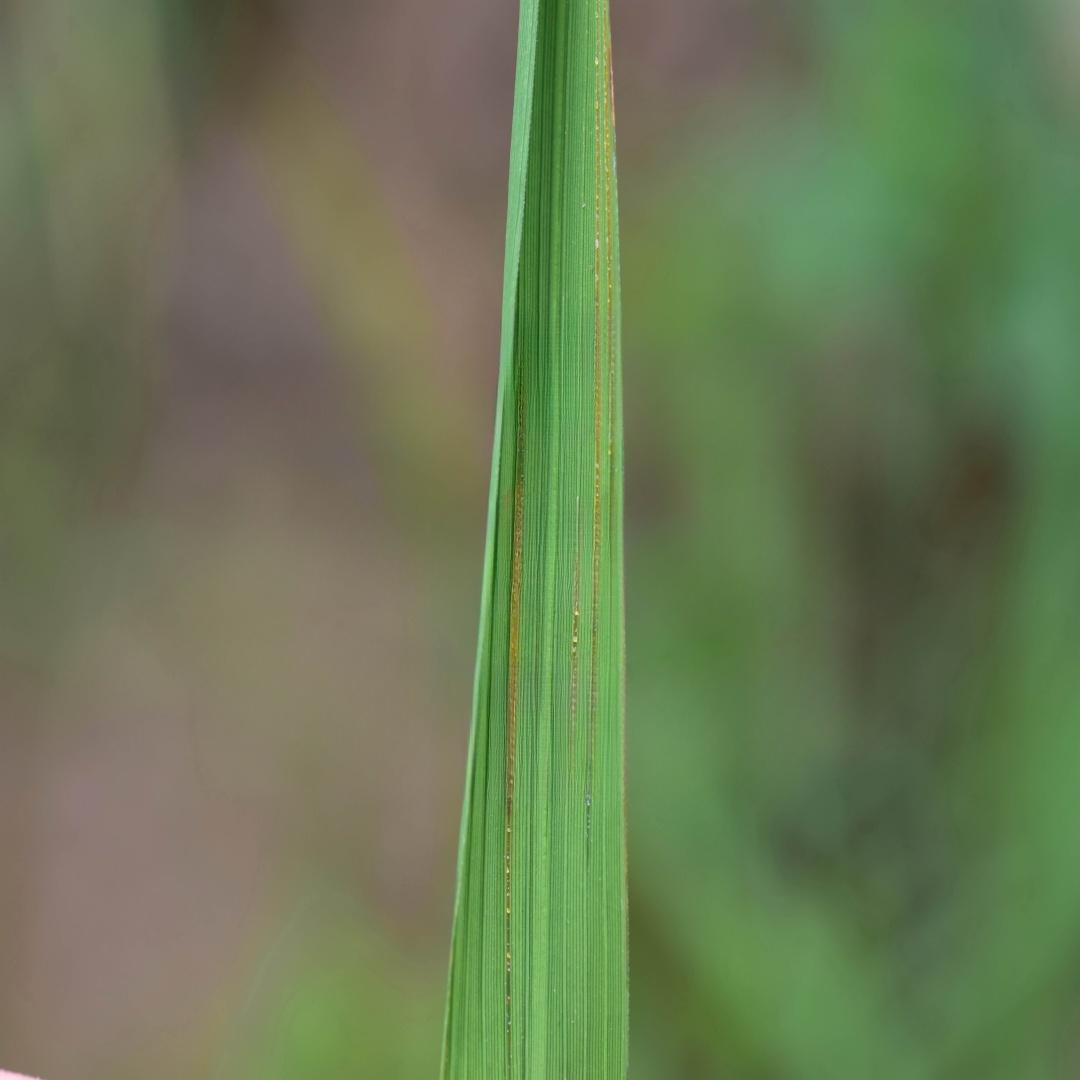BLS: (584, 0, 601, 866), (505, 362, 525, 1079), (603, 0, 618, 564), (568, 523, 581, 762)
